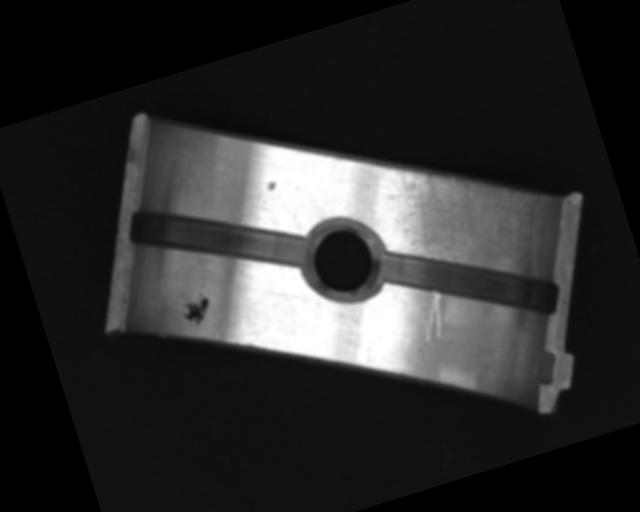blot: (177, 290, 217, 330)
bruise: (265, 180, 277, 192)
gap: (374, 206, 570, 362), (119, 165, 313, 313)
hole: (299, 212, 390, 305)
nick: (411, 289, 455, 346)
scratch: (368, 125, 573, 314)
